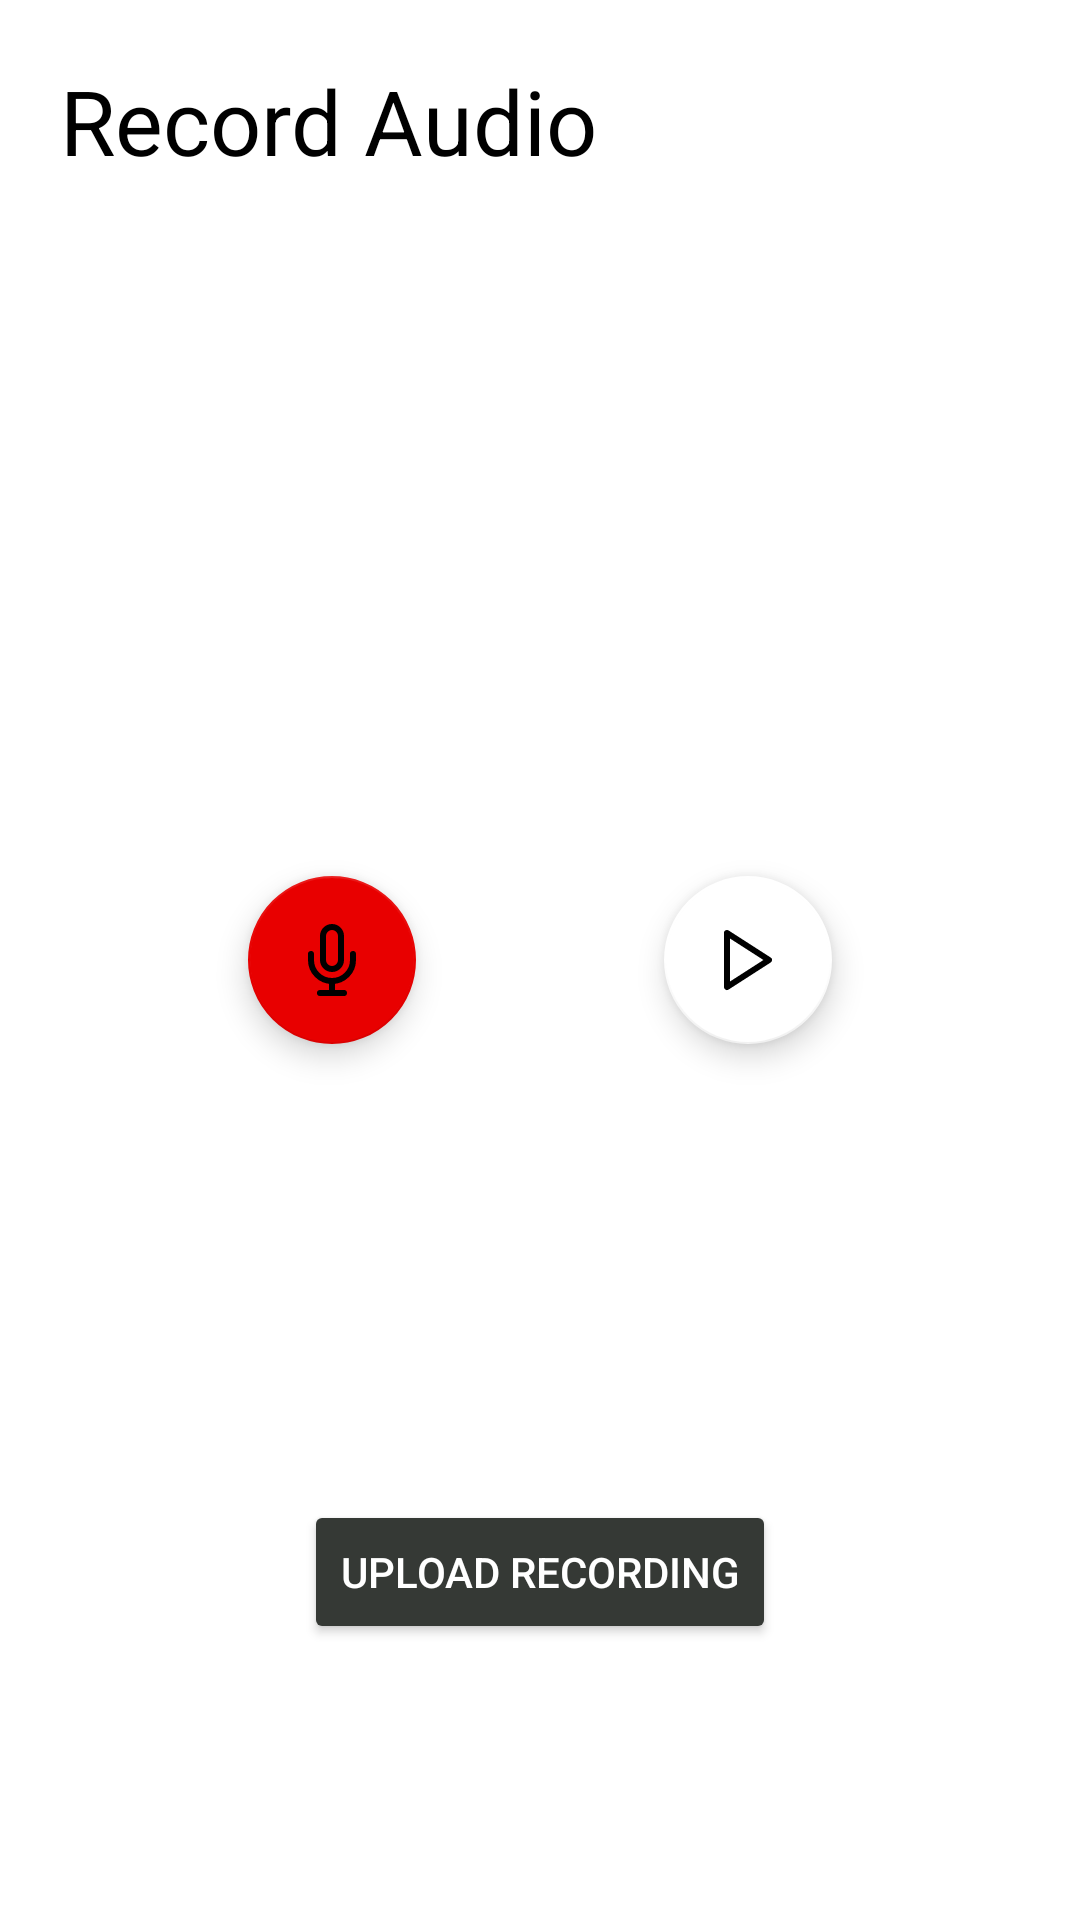

Icons on this 1080*1920 Android screen, each with its box as (x1, y1, x2, y2):
mic: (248, 876, 416, 1044)
